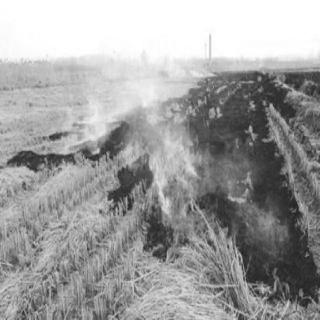Fire: (102, 111, 258, 251), (246, 239, 314, 305), (2, 123, 70, 183)
